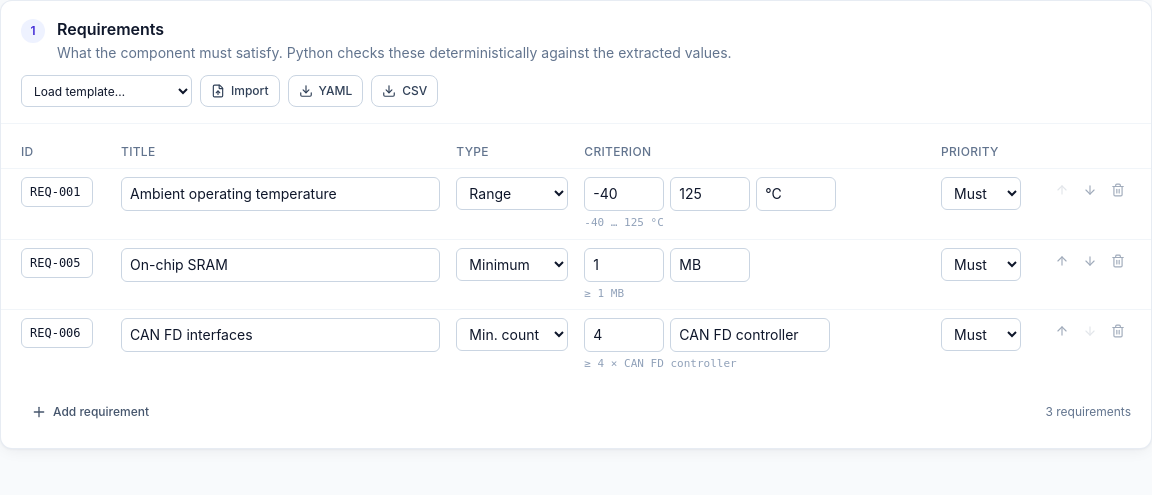
Test: RequirementsEditor › validates inline and switches parameter fields by type
The width and height of the screenshot is (1152, 495).
Step 1. Replace the text in the field named "ID of REQ-005" with "REQ-001" → (57, 263), box [21,248,93,278]
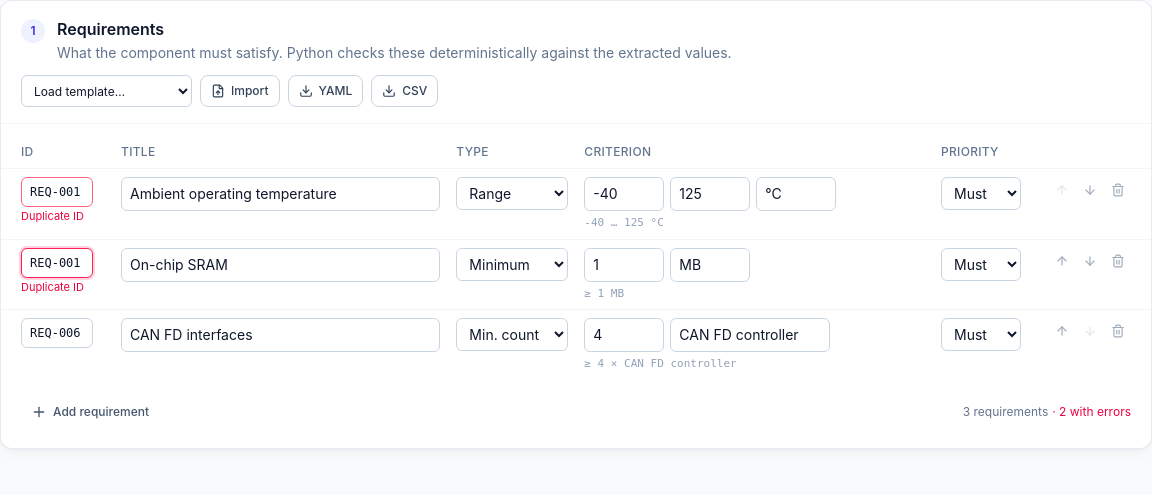
Result: the text "Duplicate ID" is shown 2 times at [21,209,93,225]; [21,280,93,295]
Result: the text "2 with errors" is shown at [1052,404,1131,419]
Step 2. Replace the text in the 2nd field named "ID of REQ-005" with "bad id" → (57, 263), box [21,248,93,278]
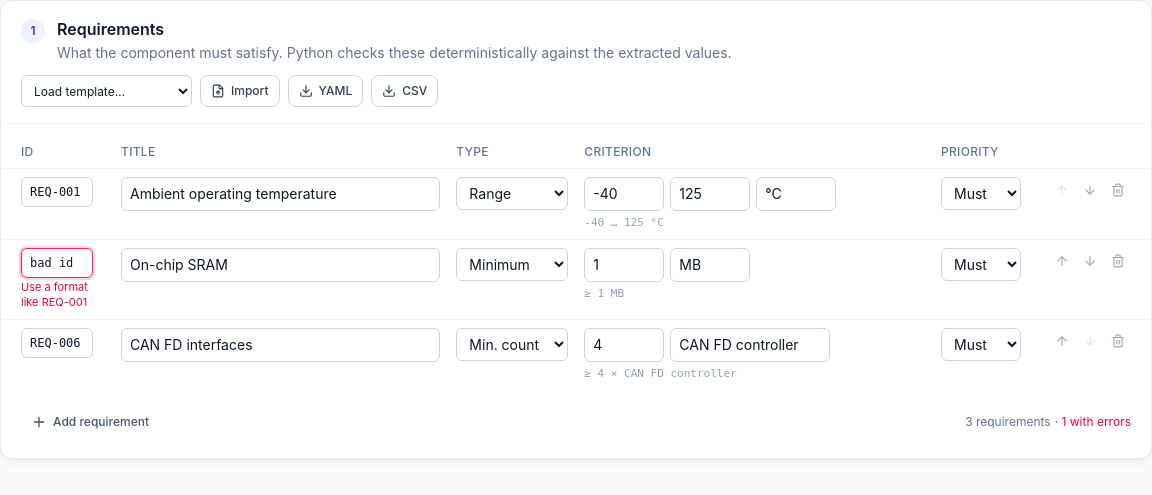
Result: the text "Use a format like REQ-001" is shown at [21,280,93,311]
Step 3. Select "Presence" in the dropdown named "Type of REQ-001" → (512, 194), box [456,177,568,210]
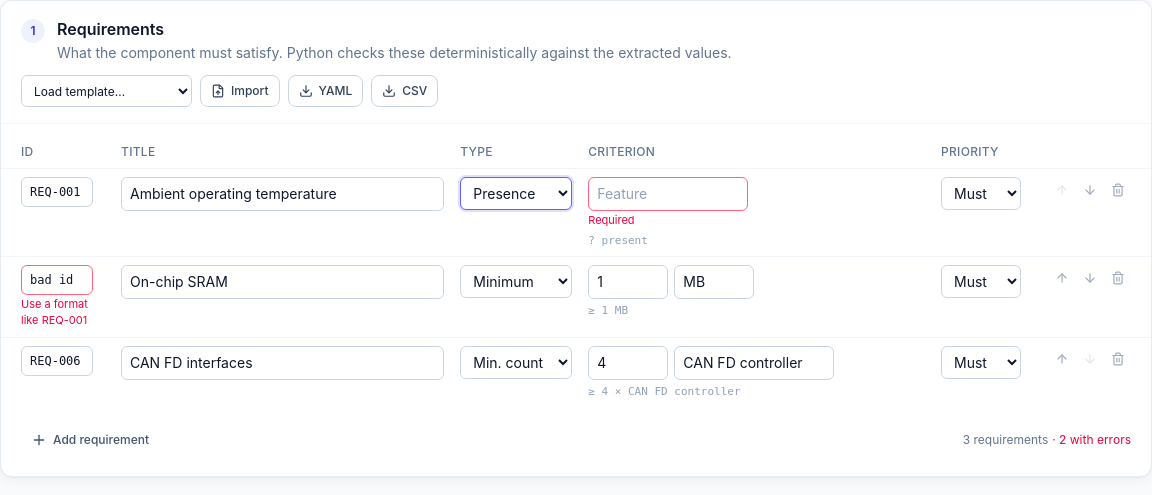
Result: the field named "Feature of REQ-001" is shown at [588,177,748,211]
